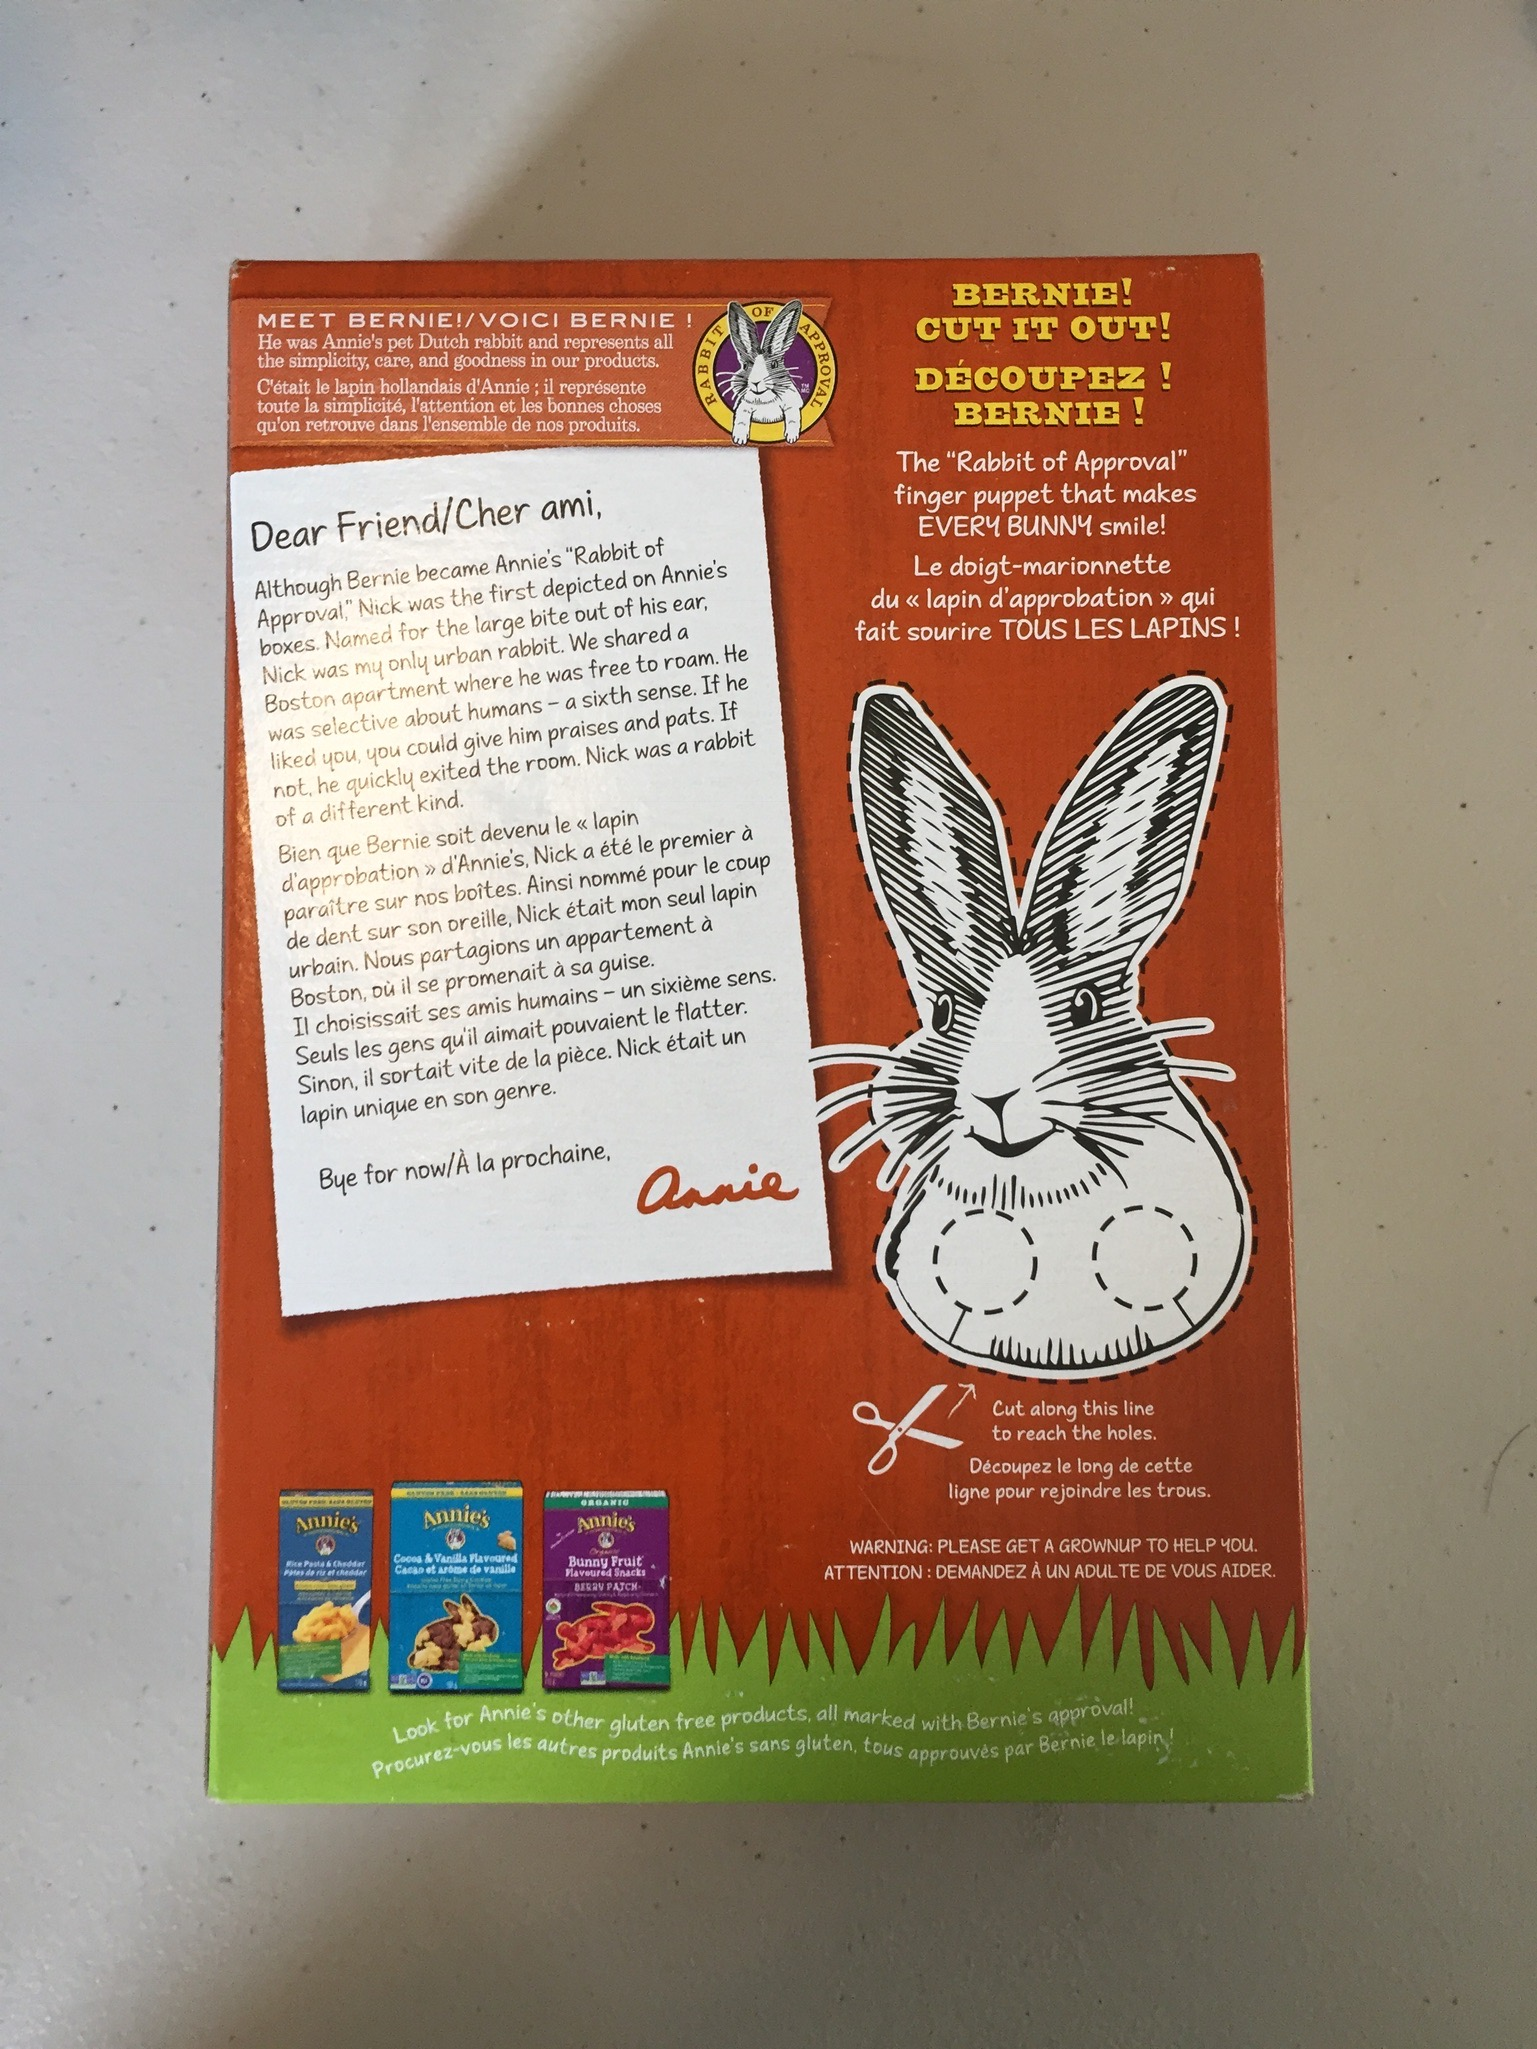annies_snickerdoodles_cinnamon_sugar: (245, 271, 1290, 1792)
